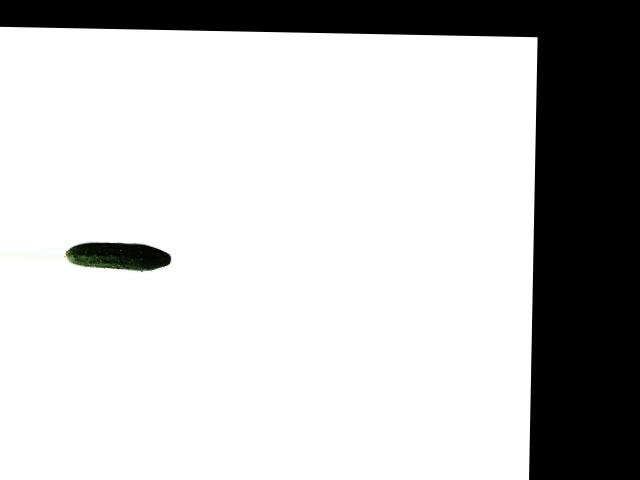cucumber: (65, 242, 171, 270)
